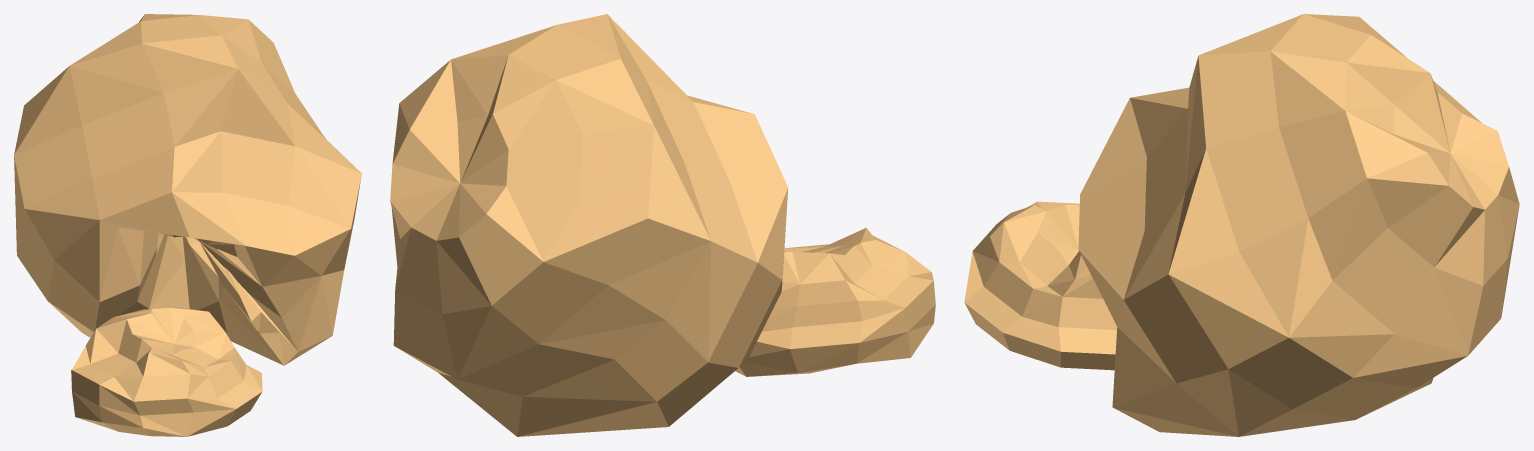
The model's file is Desert_shelter.glb.
3 renders of one model, left to right at view 1: azimuth 30°, elevation 25°; view 2: azimuth 150°, elevation 25°; view 3: azimuth 270°, elevation 25°, orthographic. The views are drawn at different scales.
Visible parts, largest first — view 1: group1089375564; view 2: group1089375564; view 3: group1089375564.
Part boxes in pixels (x1=…): group1089375564: x1=14, y1=14, x2=361, y2=436; group1089375564: x1=390, y1=14, x2=935, y2=436; group1089375564: x1=964, y1=14, x2=1519, y2=436.
Size of the model in its own units: 4.34 by 3.5 by 4.83.
